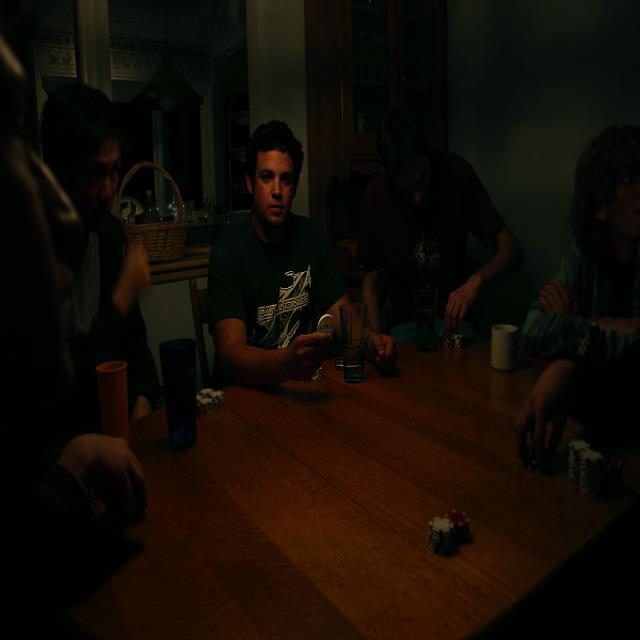Cup: (162, 342, 204, 459), (100, 348, 138, 458), (336, 292, 375, 393), (402, 275, 444, 361), (492, 311, 535, 381)
People: (0, 39, 142, 630), (51, 78, 187, 384), (366, 94, 512, 344), (553, 90, 640, 506), (225, 110, 323, 418)
Table: (35, 359, 640, 640)
